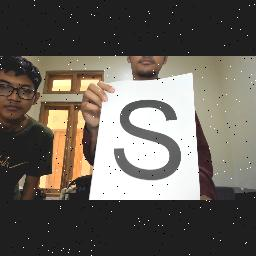s: (108, 96, 186, 188)
